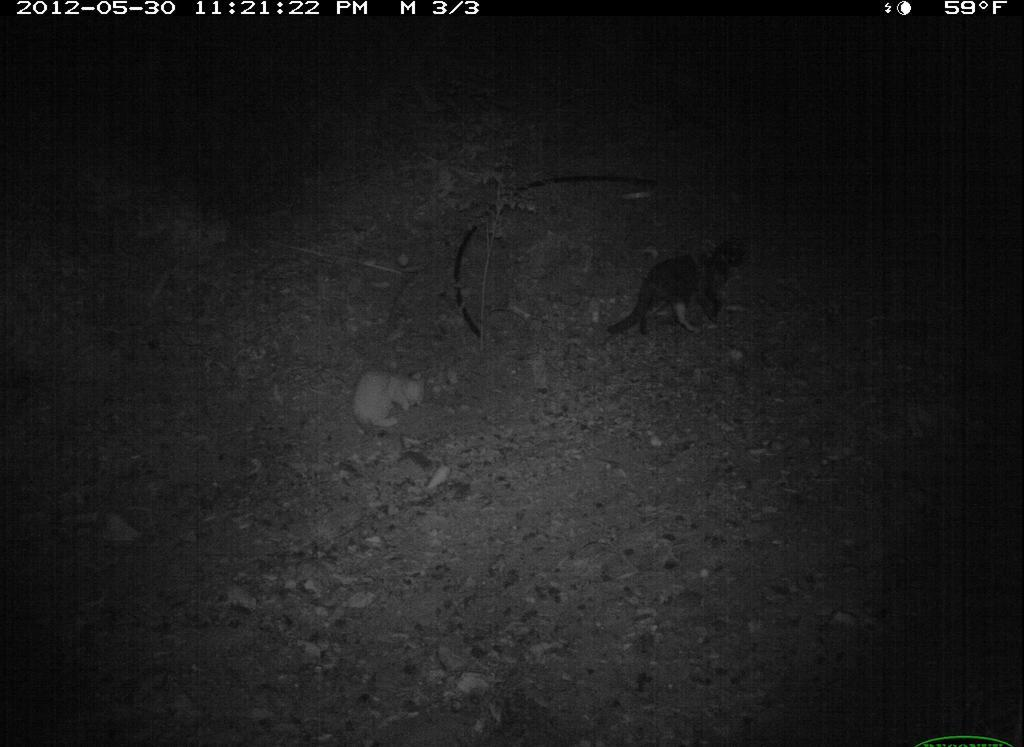cat: (596, 221, 766, 345), (333, 346, 436, 442)
